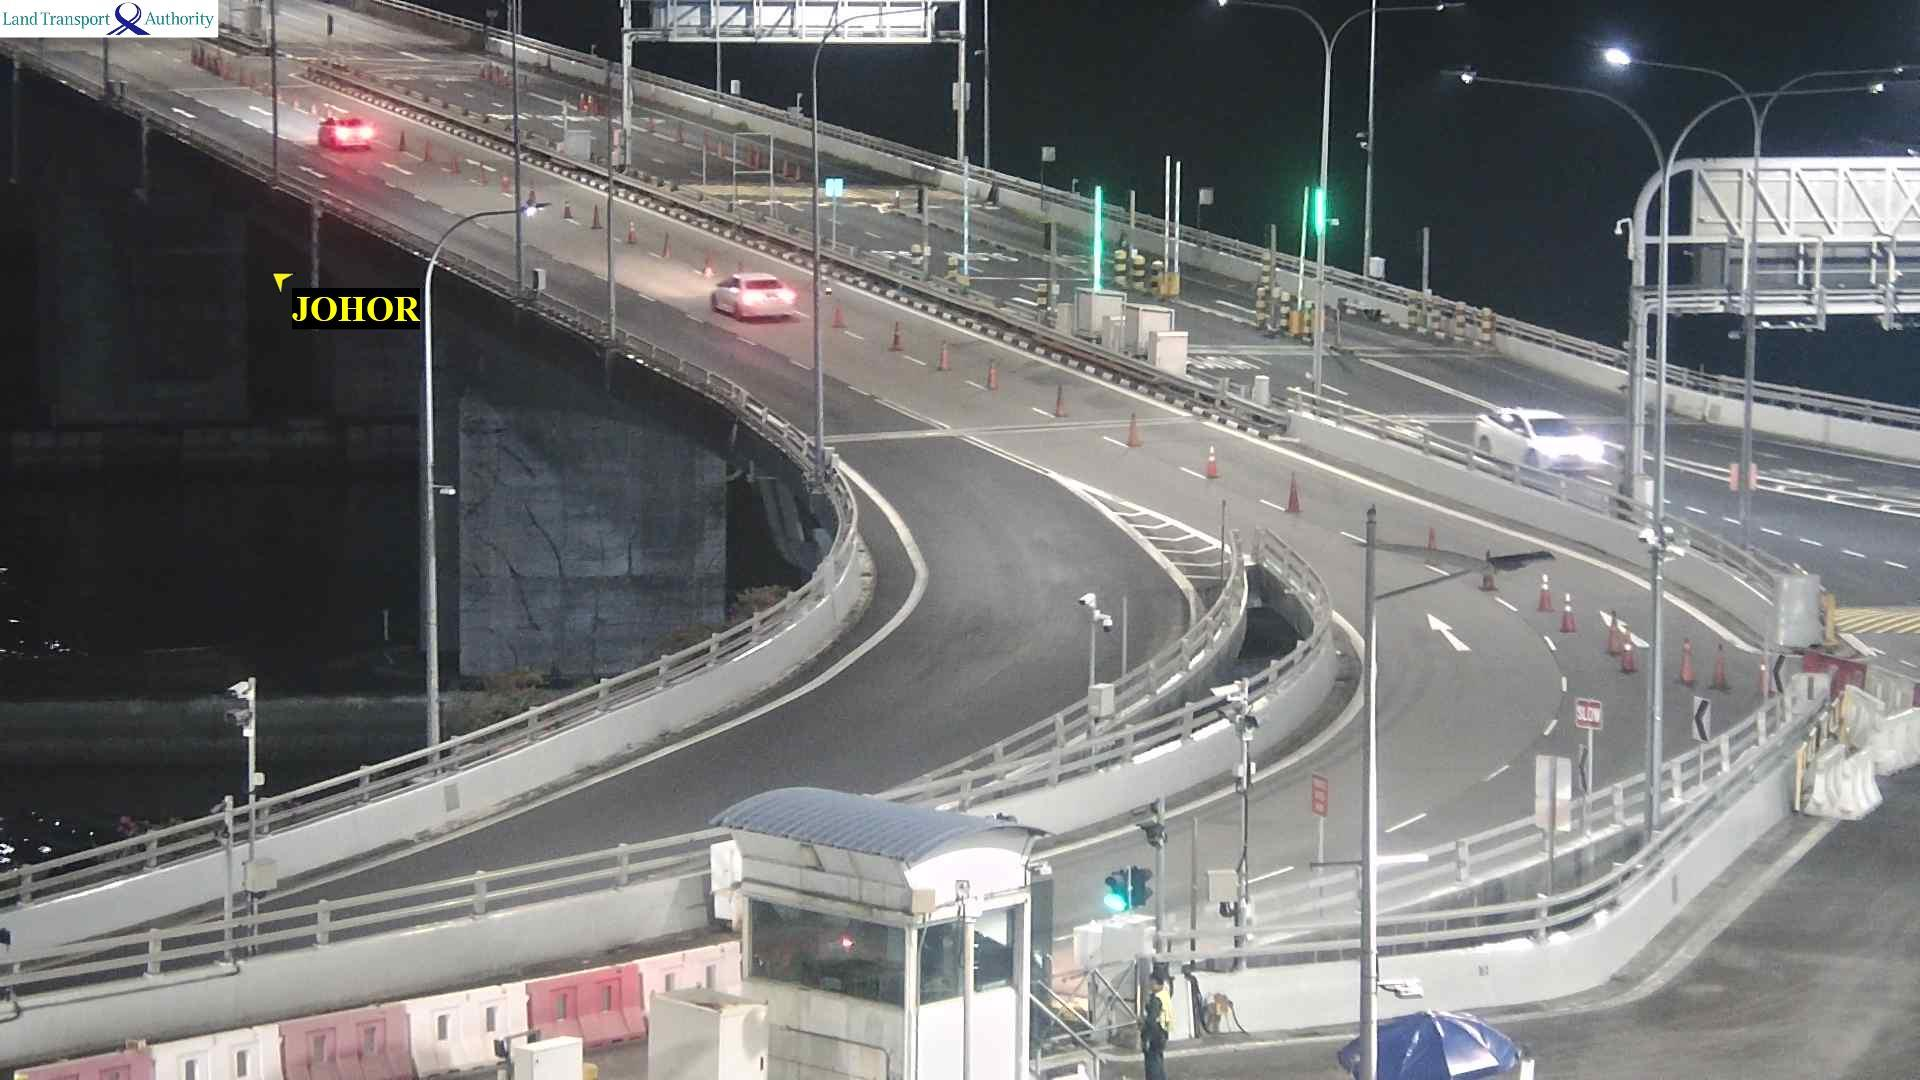vehicle-secondlink-johor: (708, 260, 795, 324), (322, 112, 373, 153)
vehicle-secondlink-singapore: (1476, 392, 1610, 476)
